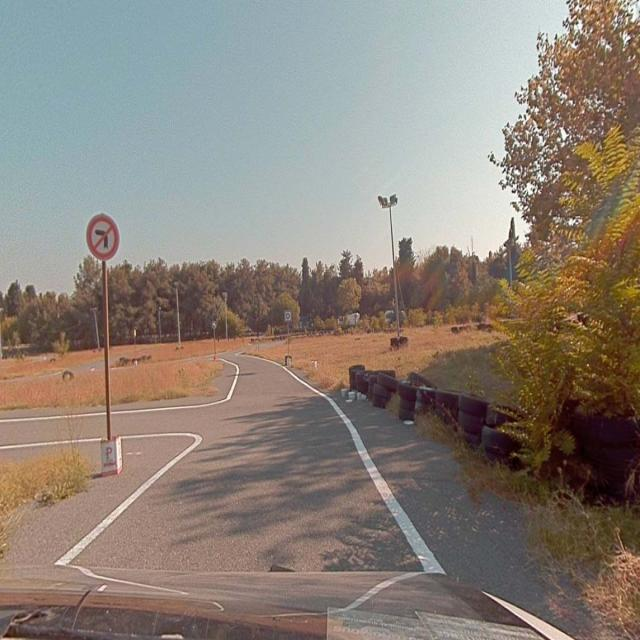durak: (285, 310, 291, 321)
soladonulmez: (86, 211, 119, 257)
